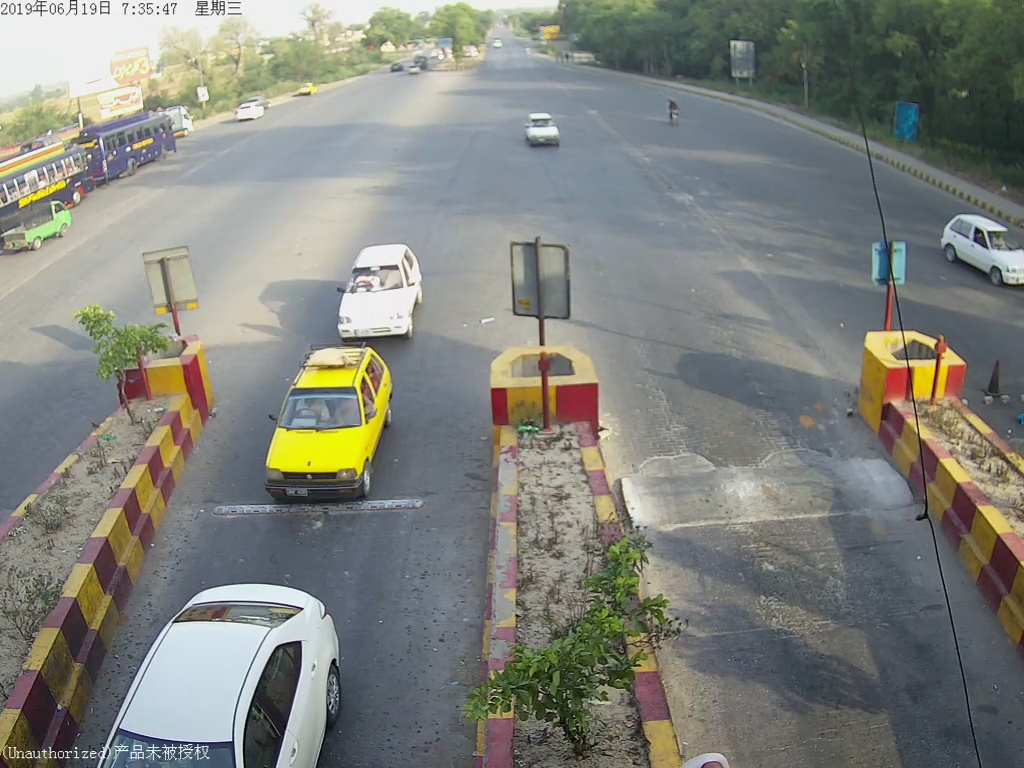Cat-1: (272, 347, 400, 500), (333, 244, 421, 342)
